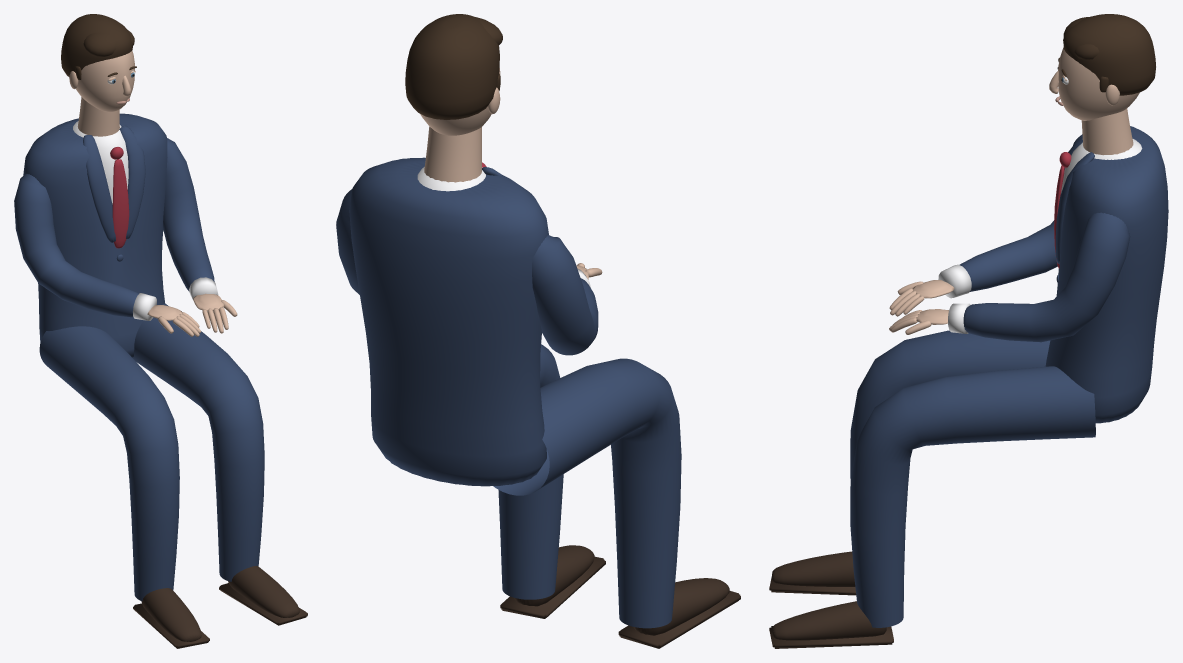
Rendered from Businessman.fbx.
3 renders of one model, left to right at view 1: azimuth 30°, elevation 25°; view 2: azimuth 150°, elevation 25°; view 3: azimuth 270°, elevation 25°, orthographic. The views are drawn at different scales.
Visible parts, largest first — view 1: Businessman_SuitJacket, Businessman_Leg_R, Businessman_Leg_L, Businessman_Arm_R, Businessman_Arm_L, Businessman_HairCap, Businessman_Head, Businessman_Shoe_L, Businessman_Shoe_R, Businessman_Lapel_R, Businessman_Lapel_L, Businessman_TieBlade (+7 smaller); view 2: Businessman_SuitJacket, Businessman_Leg_R, Businessman_HairCap, Businessman_Leg_L, Businessman_Arm_R, Businessman_Neck, Businessman_Shoe_R, Businessman_Shoe_L, Businessman_ShoeSole_R, Businessman_ShoeSole_L, Businessman_Arm_L, Businessman_Head (+1 smaller); view 3: Businessman_Leg_L, Businessman_SuitJacket, Businessman_Arm_L, Businessman_Leg_R, Businessman_HairCap, Businessman_Arm_R, Businessman_Shoe_L, Businessman_Head, Businessman_Shoe_R, Businessman_Neck, Businessman_ShoeSole_L, Businessman_Lapel_L (+3 smaller).
Part boxes in pixels (bbox=[...]): Businessman_SuitJacket: bbox=[23, 113, 167, 357]; Businessman_Leg_R: bbox=[39, 326, 179, 601]; Businessman_Leg_L: bbox=[132, 303, 264, 581]; Businessman_Arm_R: bbox=[14, 173, 138, 317]; Businessman_Arm_L: bbox=[163, 138, 214, 291]; Businessman_HairCap: bbox=[61, 14, 132, 77]; Businessman_Head: bbox=[76, 50, 134, 112]; Businessman_Shoe_L: bbox=[228, 566, 299, 617]; Businessman_Shoe_R: bbox=[141, 588, 201, 641]; Businessman_Lapel_R: bbox=[83, 135, 115, 242]; Businessman_Lapel_L: bbox=[119, 125, 145, 238]; Businessman_TieBlade: bbox=[112, 159, 129, 248]; Businessman_SuitJacket: bbox=[349, 157, 548, 486]; Businessman_Leg_R: bbox=[493, 358, 681, 628]; Businessman_HairCap: bbox=[405, 14, 499, 119]; Businessman_Leg_L: bbox=[498, 344, 563, 599]; Businessman_Arm_R: bbox=[532, 235, 598, 355]; Businessman_Neck: bbox=[424, 126, 481, 182]; Businessman_Shoe_R: bbox=[633, 578, 729, 635]; Businessman_Shoe_L: bbox=[514, 545, 594, 606]; Businessman_ShoeSole_R: bbox=[618, 591, 740, 648]; Businessman_ShoeSole_L: bbox=[500, 556, 605, 618]; Businessman_Arm_L: bbox=[336, 189, 359, 294]; Businessman_Head: bbox=[420, 68, 500, 135]; Businessman_Leg_L: bbox=[850, 366, 1095, 627]; Businessman_SuitJacket: bbox=[1045, 126, 1168, 423]; Businessman_Arm_L: bbox=[963, 212, 1130, 342]; Businessman_Leg_R: bbox=[850, 330, 1050, 478]; Businessman_HairCap: bbox=[1063, 14, 1155, 95]; Businessman_Arm_R: bbox=[959, 220, 1057, 291]; Businessman_Shoe_L: bbox=[772, 601, 886, 640]; Businessman_Head: bbox=[1058, 47, 1139, 120]; Businessman_Shoe_R: bbox=[772, 551, 855, 586]; Businessman_Neck: bbox=[1081, 108, 1133, 155]; Businessman_ShoeSole_L: bbox=[769, 626, 893, 648]; Businessman_Lapel_L: bbox=[1055, 152, 1094, 263].
Size of the model in its own units: 0.4703 by 1.32 by 0.8034.
